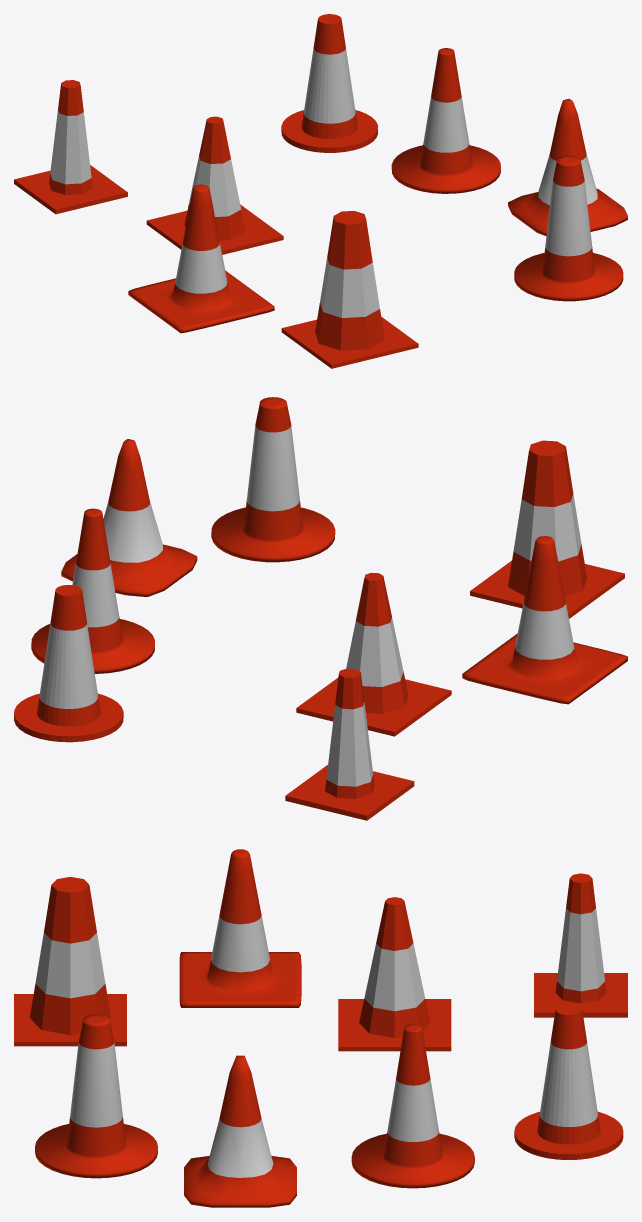
Rendered from conesTodos.obj.
3 views of the same model, one above another, from view 1: azimuth 30°, elevation 25°; view 2: azimuth 150°, elevation 25°; view 3: azimuth 270°, elevation 25° (orthographic). The views are drawn at different scales.
Visible parts, largest first — view 1: Cube.000_Cube.012, Cube.001, Cylinder.000_Cylinder.009, Cylinder.001, Cylinder.007_Cylinder.003, Cube.011_Cube.005, Cube.003, Cube.002; view 2: Cube.001, Cylinder.000_Cylinder.009, Cube.000_Cube.012, Cylinder.007_Cylinder.003, Cube.003, Cube.002, Cube.011_Cube.005, Cylinder.001; view 3: Cube.000_Cube.012, Cube.001, Cylinder.000_Cylinder.009, Cube.003, Cylinder.001, Cube.002, Cylinder.007_Cylinder.003, Cube.011_Cube.005.
Part boxes in pixels (x1,y1,x2,y2): Cube.000_Cube.012: (281,211,418,368); Cube.001: (128,184,274,333); Cylinder.000_Cylinder.009: (514,155,623,301); Cylinder.001: (391,48,500,193); Cylinder.007_Cylinder.003: (281,14,377,152); Cube.011_Cube.005: (14,80,127,214); Cube.003: (146,116,283,254); Cube.002: (508,98,627,235); Cube.001: (462,536,627,704); Cylinder.000_Cylinder.009: (211,397,335,562); Cube.000_Cube.012: (470,440,624,618); Cylinder.007_Cylinder.003: (14,585,123,742); Cube.003: (296,572,451,736); Cube.002: (61,439,197,596); Cube.011_Cube.005: (285,668,414,820); Cylinder.001: (31,508,154,673); Cube.000_Cube.012: (14,877,126,1046); Cube.001: (179,849,301,1007); Cylinder.000_Cylinder.009: (35,1014,157,1178); Cube.003: (338,897,451,1051); Cylinder.001: (351,1024,474,1188); Cube.002: (184,1055,296,1207); Cylinder.007_Cylinder.003: (514,1003,623,1159); Cube.011_Cube.005: (534,873,627,1017).
Size of the model in its own units: 12.03 by 3.17 by 12.42.
